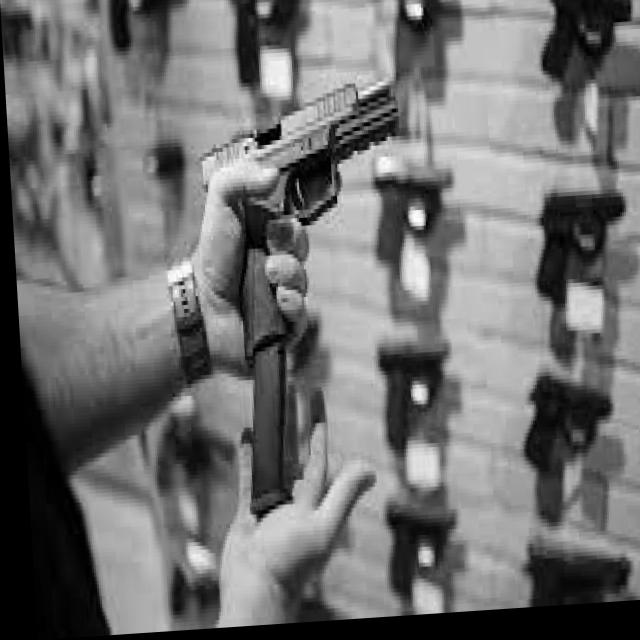handgun: (201, 86, 409, 355), (528, 193, 629, 314), (513, 375, 611, 484), (535, 0, 636, 98), (368, 172, 455, 279), (364, 0, 459, 95), (371, 348, 450, 460), (227, 0, 311, 100), (378, 502, 453, 603), (147, 415, 229, 501)
